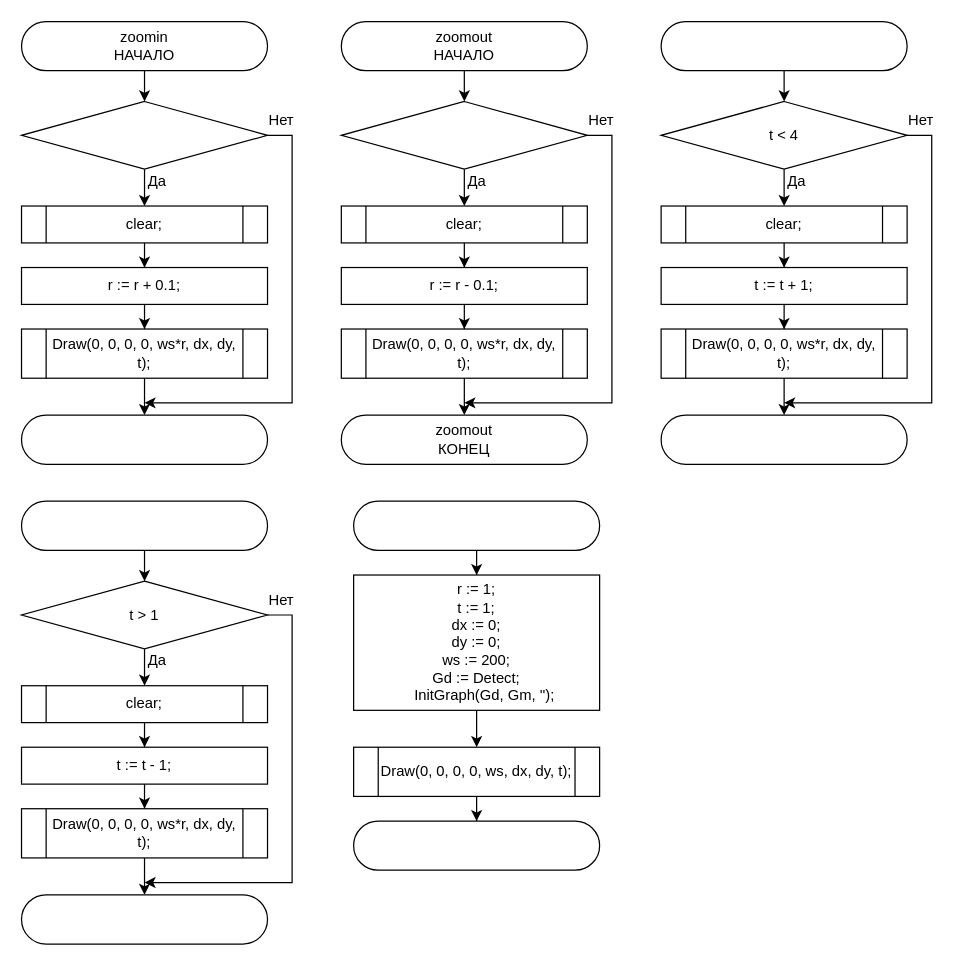
This 963x966 diagram has some shape labels left out. Here are the shapes that lost their labels. From the top down, the centre of each, then its label:
(x=783, y=45): stepup НАЧАЛО
(x=144, y=134): r <= 5
(x=463, y=134): r > 0.3
(x=144, y=439): zoomin КОНЕЦ
(x=783, y=439): stepup КОНЕЦ
(x=144, y=525): stepdown НАЧАЛО
(x=476, y=525): init НАЧАЛО
(x=476, y=845): init КОНЕЦ
(x=144, y=919): stepdown КОНЕЦ
